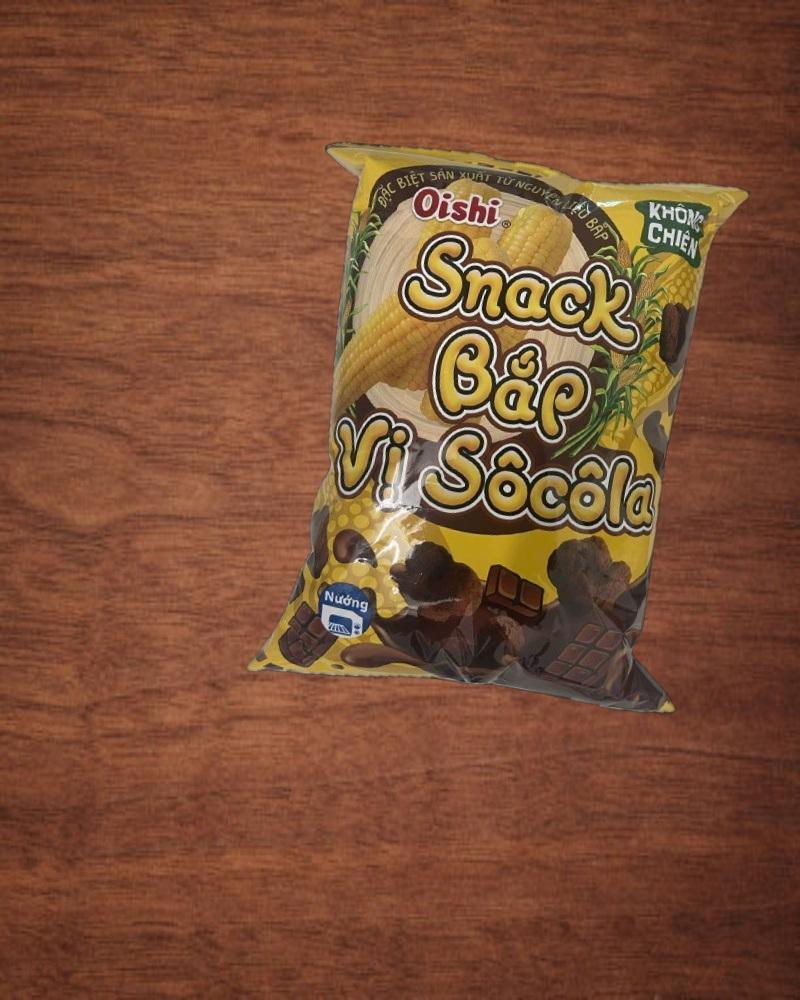Snack socola: (239, 121, 767, 734)
